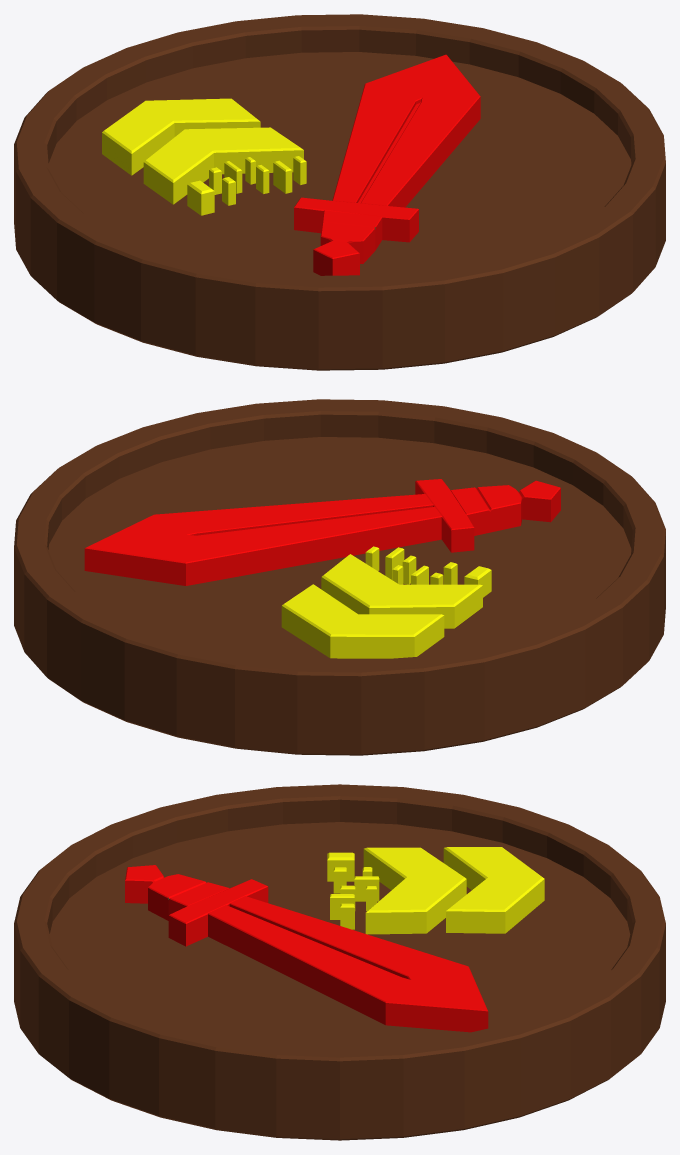
Rendered from AttackSpeedUpgrade.fbx.
3 views of the same model, one above another, from view 1: azimuth 30°, elevation 25°; view 2: azimuth 150°, elevation 25°; view 3: azimuth 270°, elevation 25° (orthographic).
Visible parts, largest first — view 1: Coin; view 2: Coin; view 3: Coin.
Boxes of the visible parts, x1,y1,x2,y2 form: Coin: (14, 14, 665, 370); Coin: (14, 399, 665, 755); Coin: (14, 784, 665, 1140).
Size of the model in its own units: 200 by 28.06 by 200.
